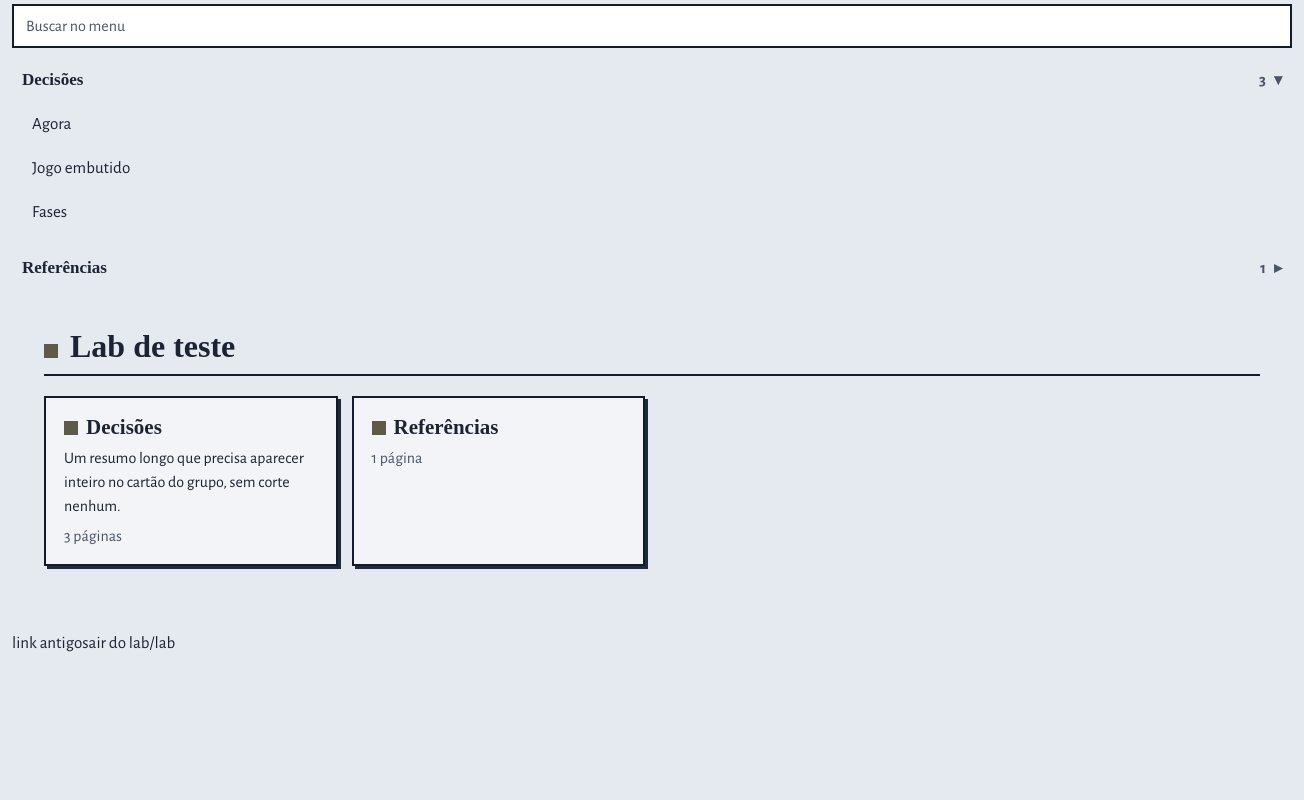
Scenario: Paginas › searches without accents, opens the first match on Enter and clears the search after navigating
This screenshot has width=1304, height=800.
In the search field: (652, 26) [12,4,1292,48], type "AGUA"
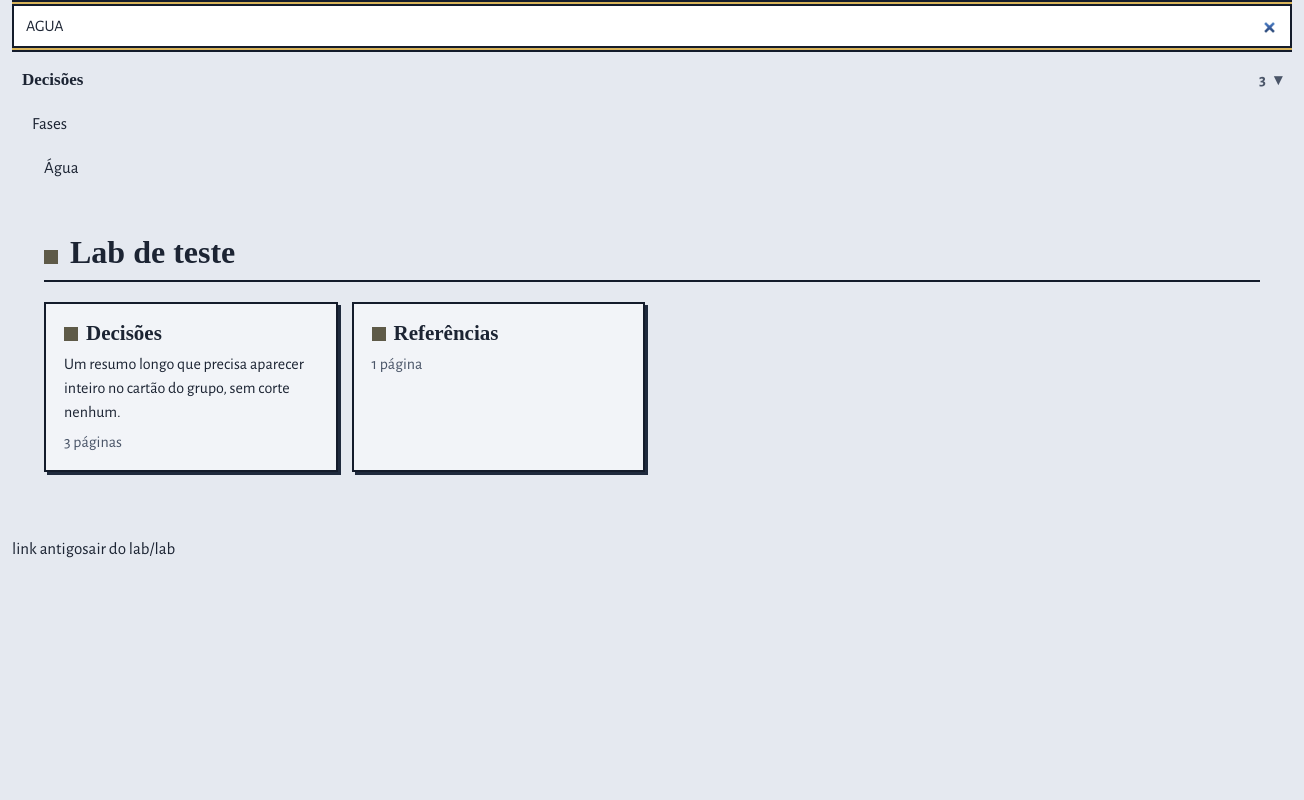
Expected: the link "Água" is shown, [44,159,79,176]
Expected: the link "Agora" is gone
Press Enter
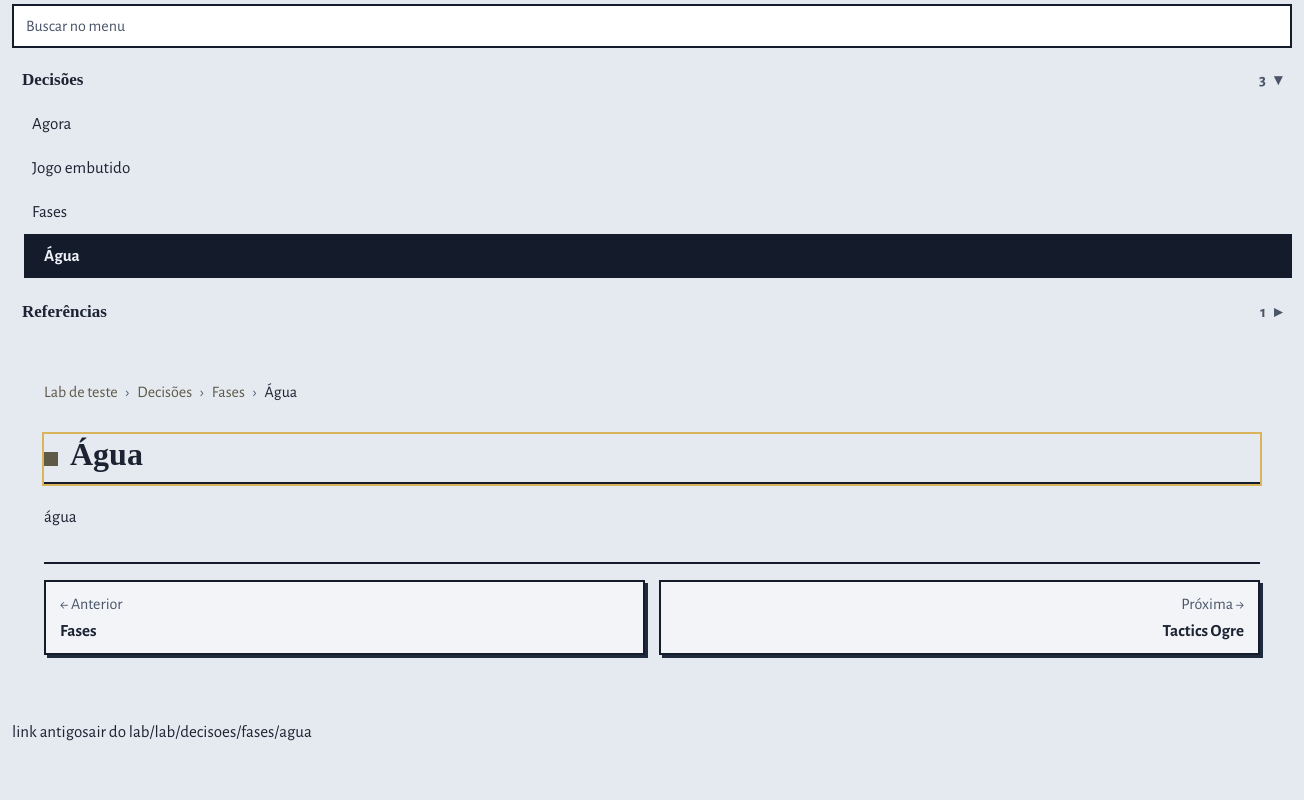
Expected: the text with test id "onde" reads "/lab/decisoes/fases/agua", [150,723,312,740]
Expected: the search field is empty, [12,4,1292,48]
